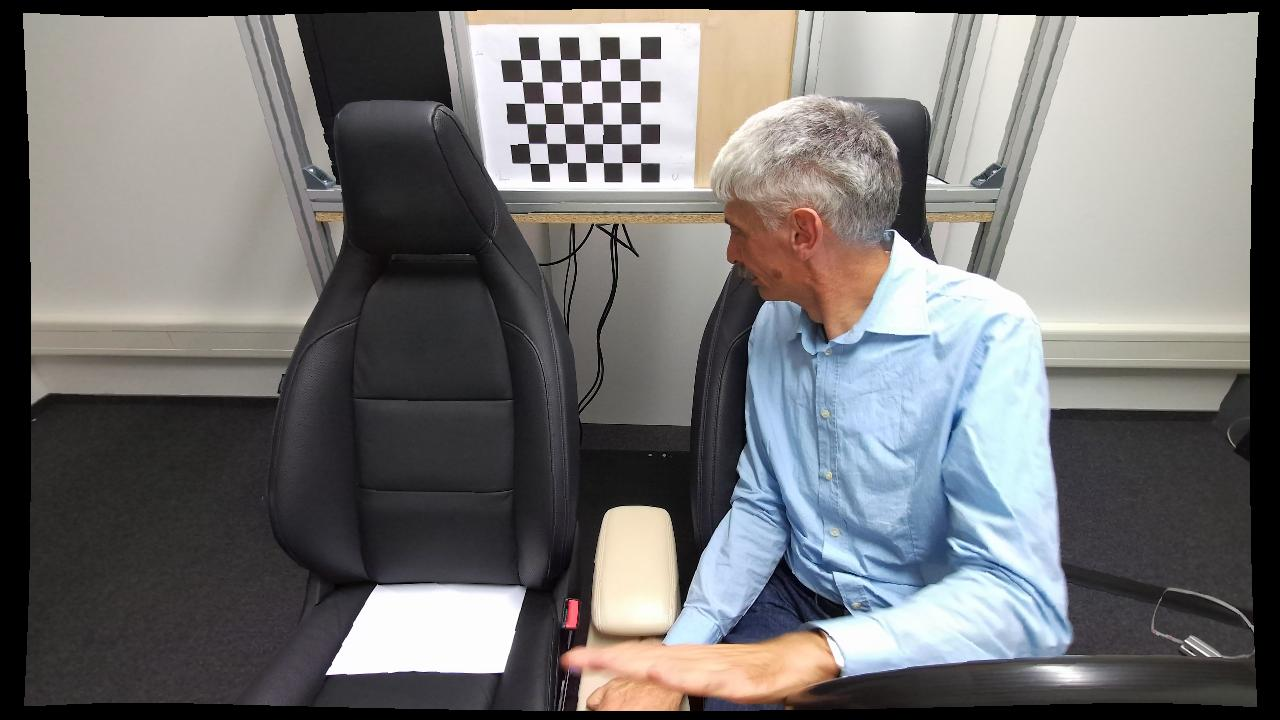Distracted: (650, 84, 1092, 713)
